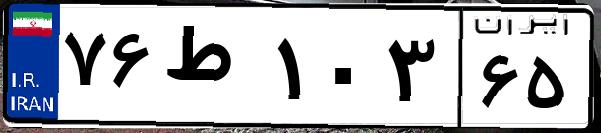0: (330, 28, 385, 110)
1: (270, 28, 330, 110)
3: (385, 28, 445, 110)
5: (525, 38, 570, 115)
6: (475, 38, 525, 113), (110, 28, 158, 98)
7: (57, 26, 110, 100)
ط: (158, 20, 270, 120)
